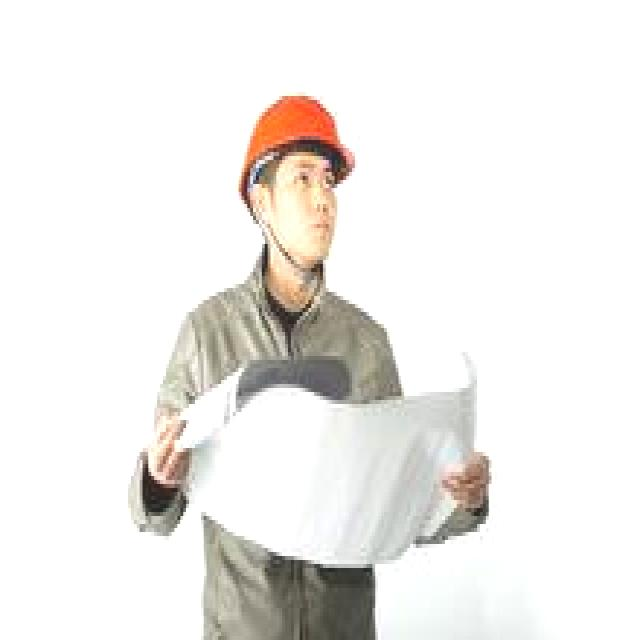face_nomask: (253, 152, 349, 264)
hand_noglove: (433, 448, 498, 520), (140, 416, 189, 500)
head_helmet: (236, 80, 375, 184)
person: (157, 52, 407, 640)
